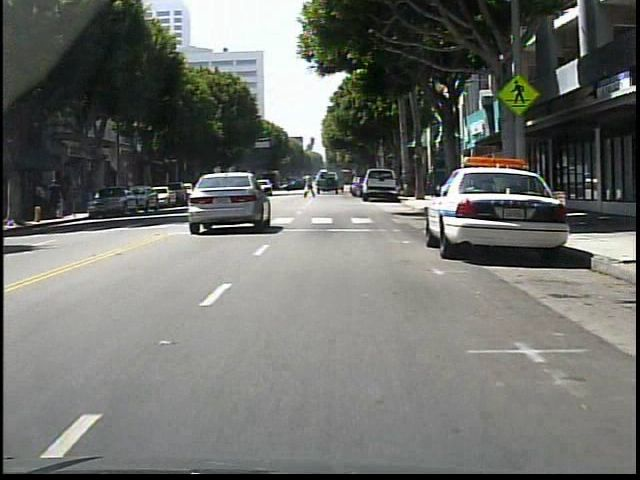person: (426, 163, 443, 206), (51, 180, 66, 220), (37, 183, 49, 219), (305, 173, 318, 201)
